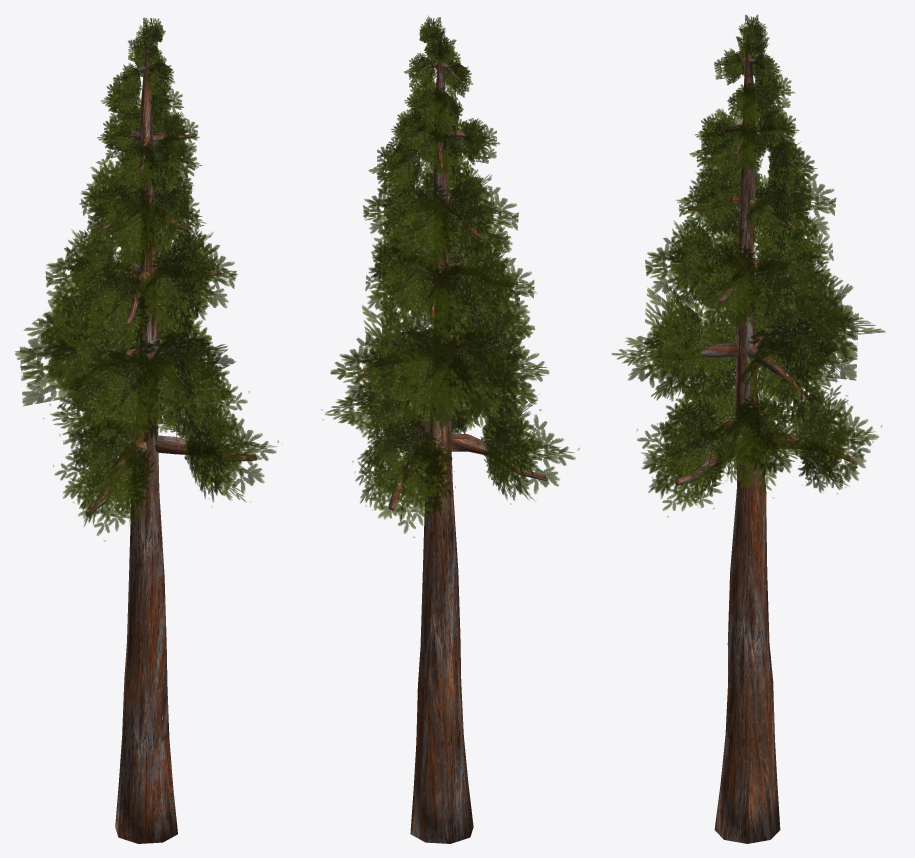
3 renders of one model, left to right at view 1: azimuth 30°, elevation 25°; view 2: azimuth 150°, elevation 25°; view 3: azimuth 270°, elevation 25°, orthographic.
Parts seen in each view (by area): view 1: Redwood Tree 2 Leaves, Redwood Tree 2; view 2: Redwood Tree 2 Leaves, Redwood Tree 2; view 3: Redwood Tree 2 Leaves, Redwood Tree 2.
Boxes of the visible parts, x1,y1,x2,y2 form: Redwood Tree 2 Leaves: (15, 17, 282, 541); Redwood Tree 2: (63, 42, 256, 843); Redwood Tree 2 Leaves: (321, 15, 579, 537); Redwood Tree 2: (355, 41, 547, 843); Redwood Tree 2 Leaves: (611, 14, 885, 517); Redwood Tree 2: (658, 50, 857, 843).
Bounding box in the file's own units: 7.83 × 25.8 × 8.32.
2 materials, 2 textured.
